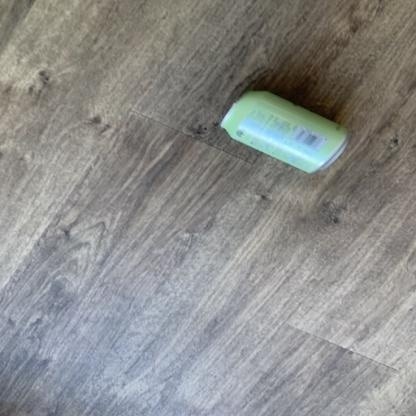trash: (220, 91, 348, 172)
